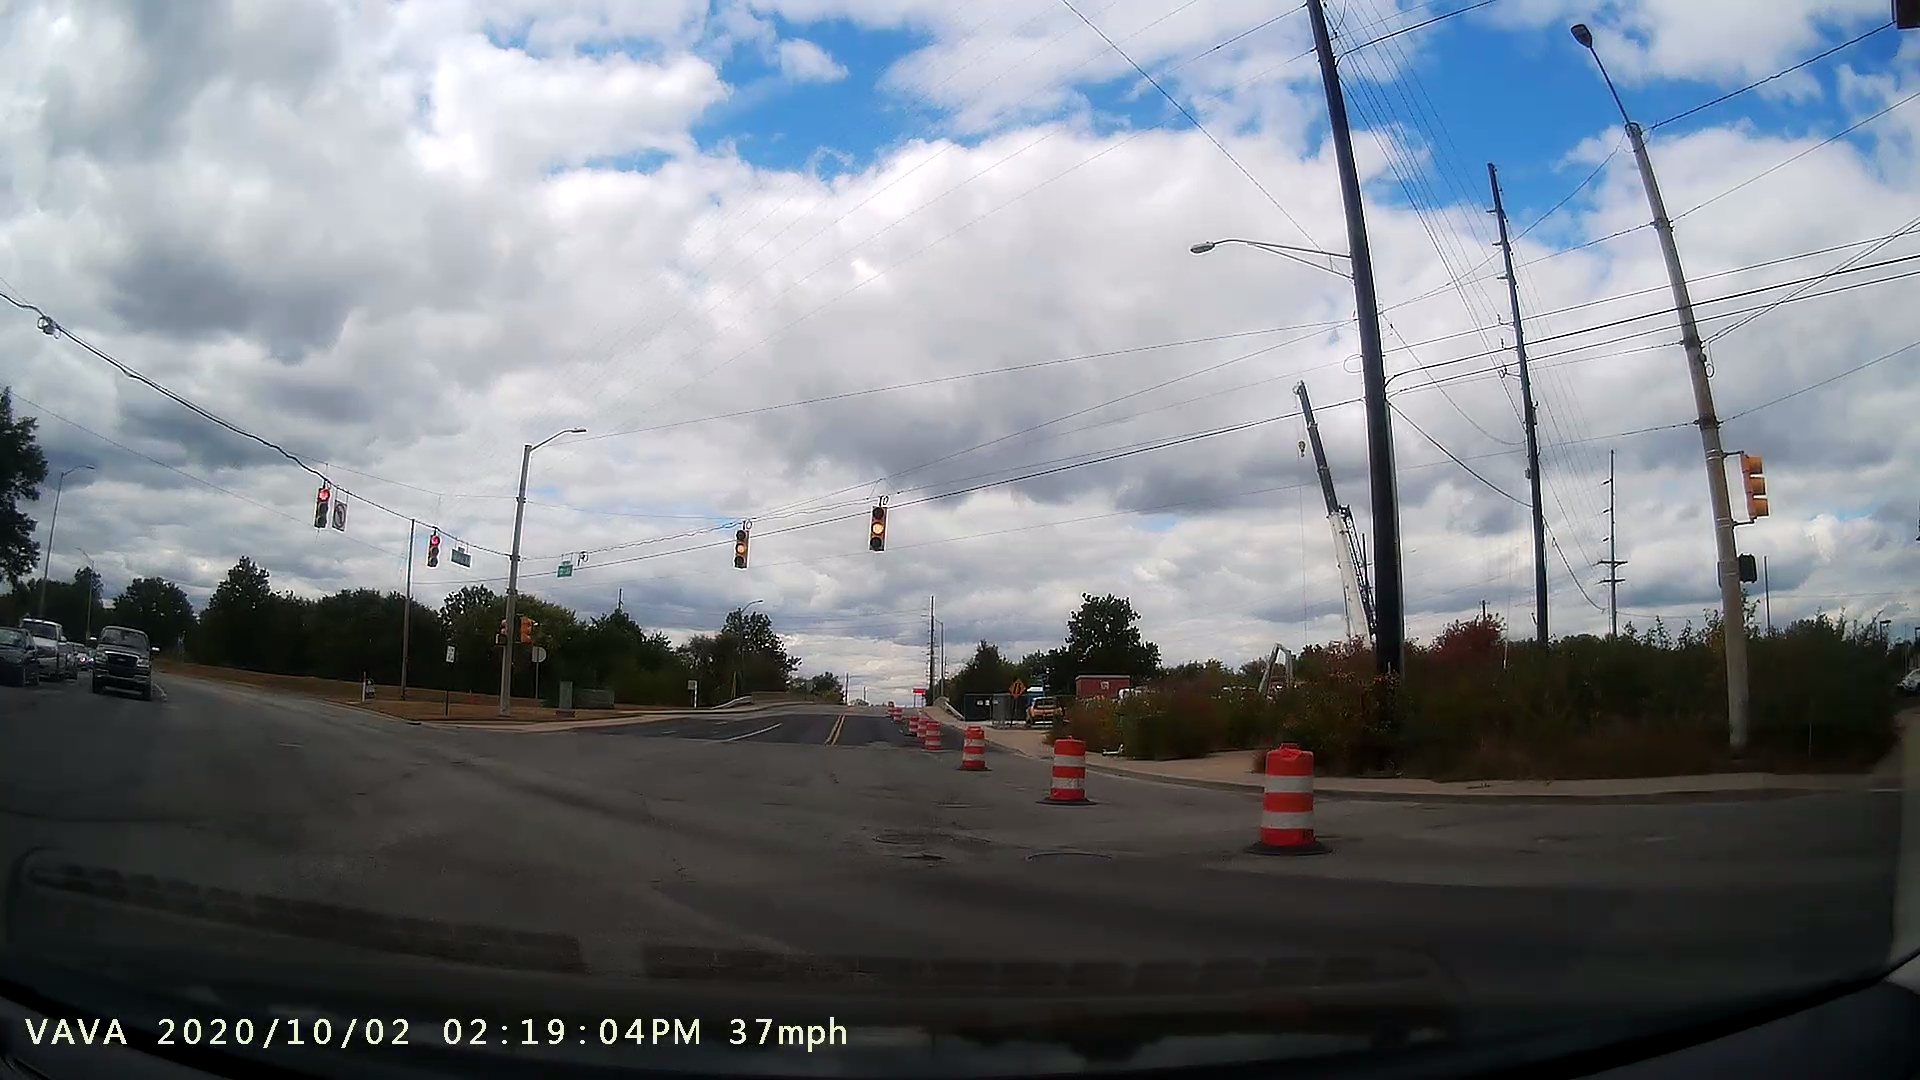const_barrel: (1228, 735, 1352, 885), (1030, 725, 1098, 816), (945, 716, 998, 781)
